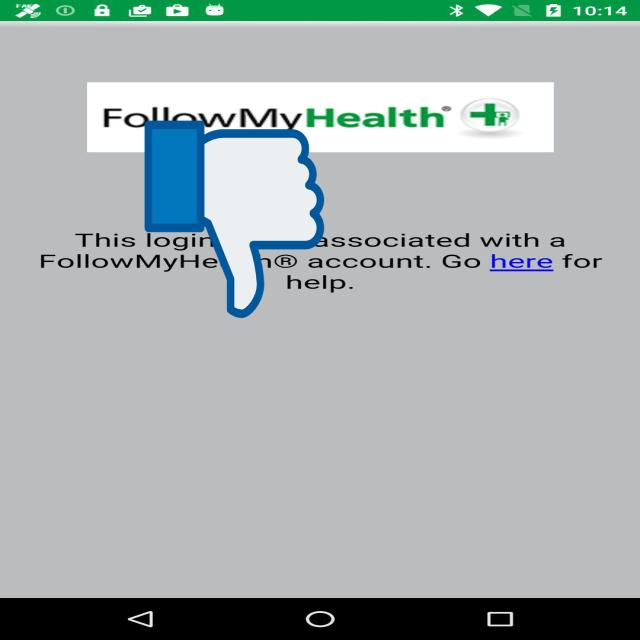obstruction: (145, 116, 324, 322)
